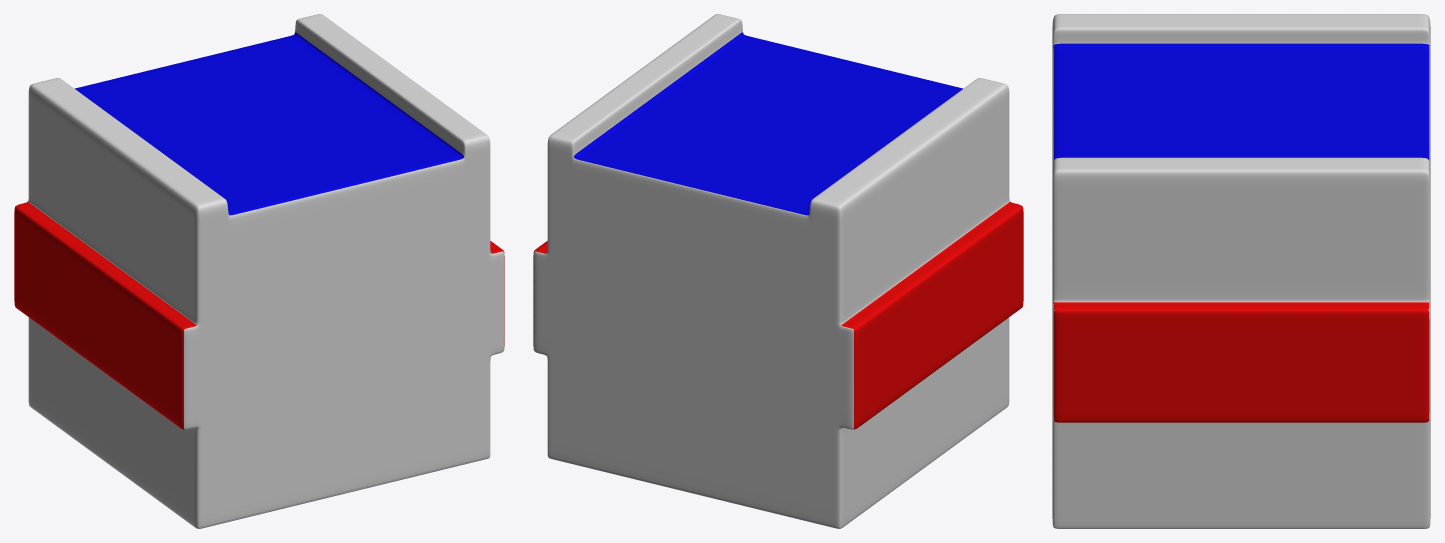
File: FontSegment_LP_FBX.fbx
3 renders of one model, left to right at view 1: azimuth 30°, elevation 25°; view 2: azimuth 150°, elevation 25°; view 3: azimuth 270°, elevation 25°, orthographic. The views are drawn at different scales.
Visible parts, largest first — view 1: pCube32; view 2: pCube32; view 3: pCube32.
Part boxes in pixels (bbox=[...]): pCube32: bbox=[14, 14, 504, 528]; pCube32: bbox=[533, 14, 1023, 528]; pCube32: bbox=[1052, 14, 1430, 528].
Bounding box in the file's own units: 110 × 105 × 100.
